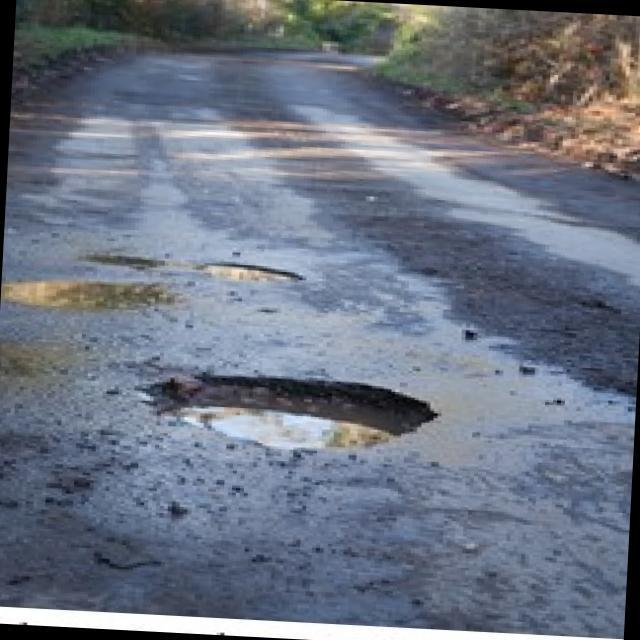Pothole: (144, 366, 444, 459), (195, 258, 308, 288)
